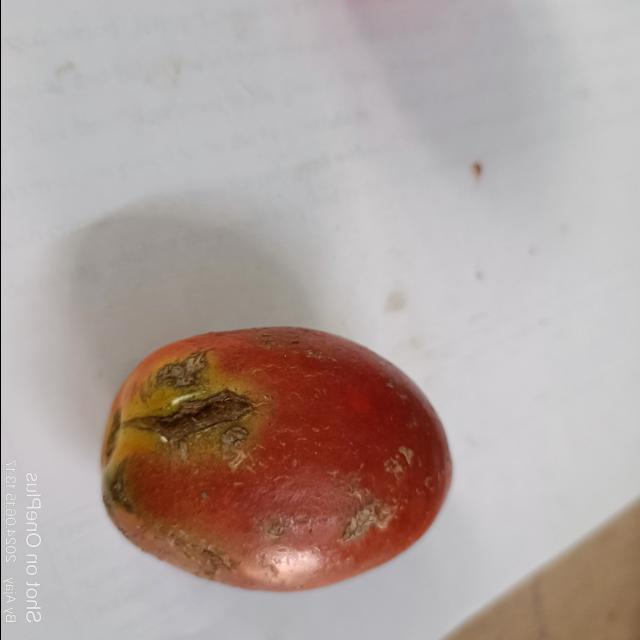Bacterial_Spot: (121, 389, 253, 466), (341, 502, 396, 538), (156, 356, 208, 392)
